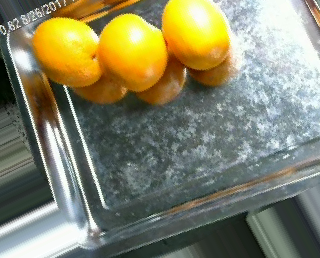Orange: (98, 12, 168, 91), (32, 16, 103, 86), (160, 1, 231, 70)
